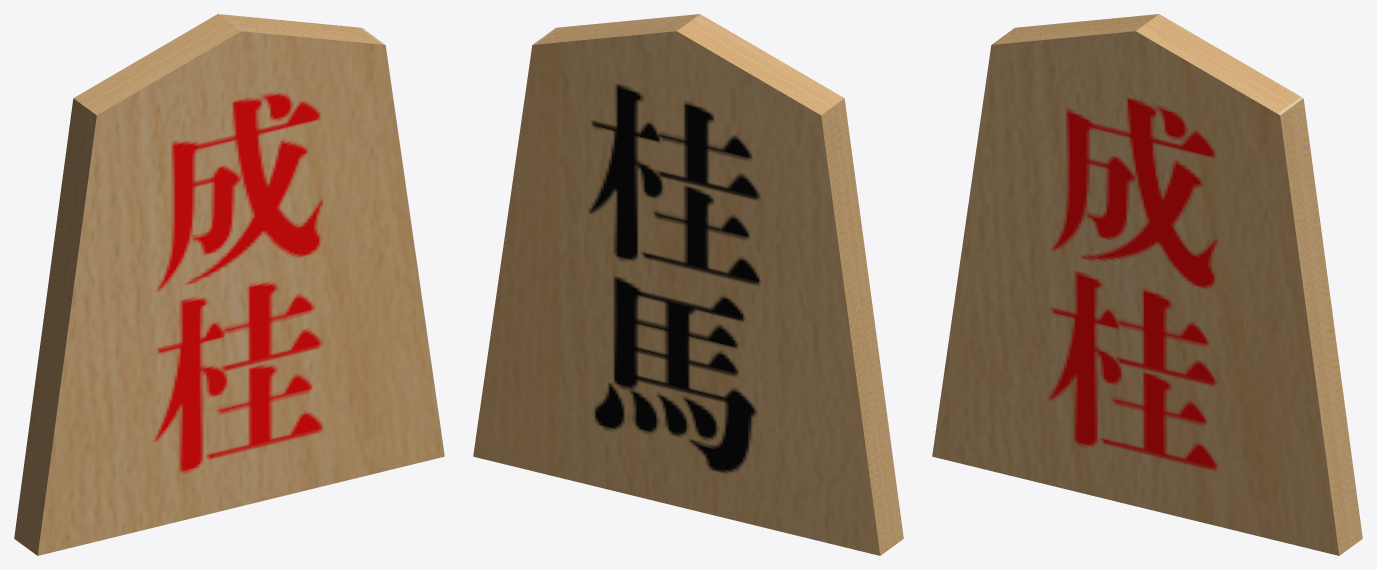
Rendered from KomaBase.fbx.
3 views of the same model, side by side, from view 1: azimuth 30°, elevation 25°; view 2: azimuth 150°, elevation 25°; view 3: azimuth 330°, elevation 25° (orthographic).
Parts seen in each view (by area): view 1: Koma; view 2: Koma; view 3: Koma.
Boxes of the visible parts, x1=… form: Koma: x1=14, y1=14, x2=444, y2=555; Koma: x1=473, y1=14, x2=903, y2=555; Koma: x1=932, y1=14, x2=1362, y2=555.
Size of the model in its own units: 200 by 223 by 20.
